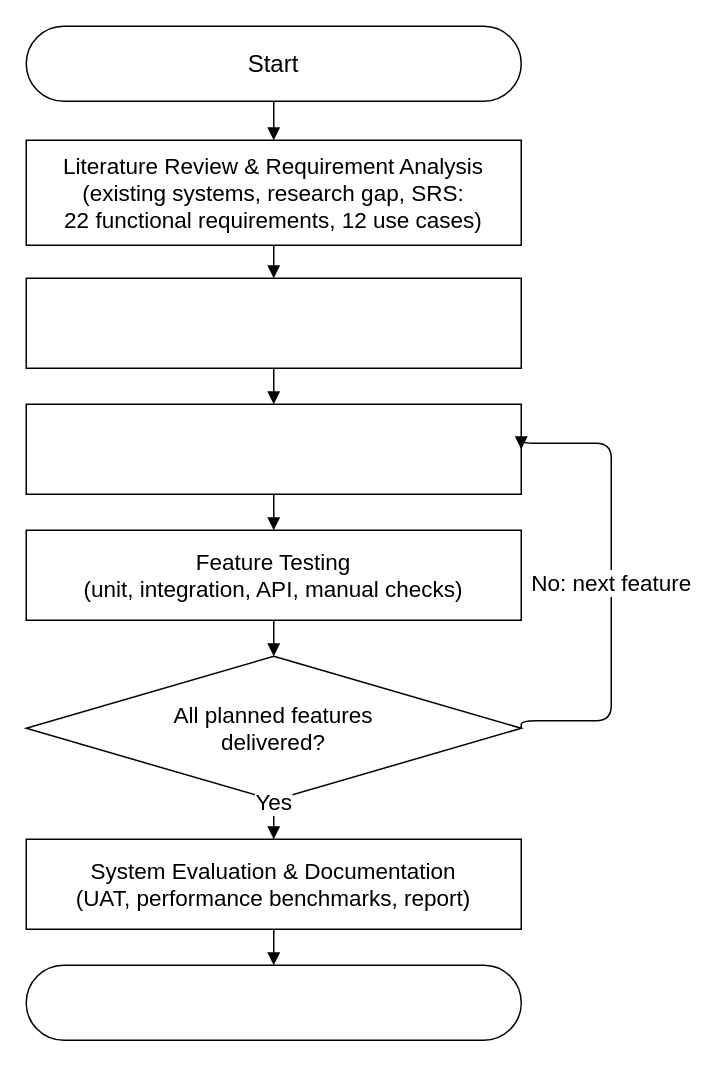
The diagram is 717 pixels wide and 1067 high, and some of its shapes have lost their labels. The shapes that lost their labels are listed below. From the top down, each one's box as (x1, y1, x2, y2) in pixels, then its label:
(25, 277, 521, 368): System Design (layered architecture, DFDs, UML, ERD)
(25, 403, 521, 494): Incremental Implementation (one tracked feature per iteration)
(25, 964, 521, 1040): End
